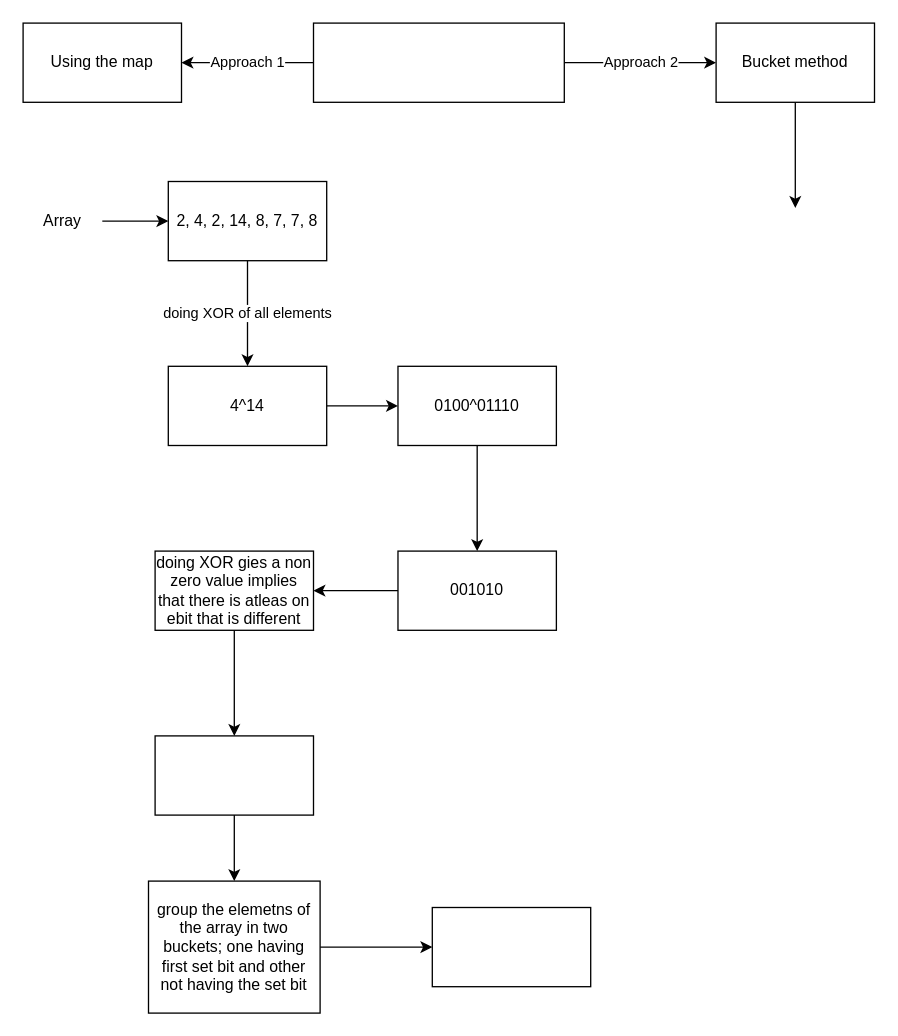
The diagram is 898 pixels wide and 1036 high, and some of its shapes have lost their labels. Each missing label, with the centre of its shape:
"Find two numbers appearing odd number of times" goes at (438,62).
"finding the first different set bit" goes at (234,775).
"XOR the two bucket to get different numbers" goes at (511,946).
